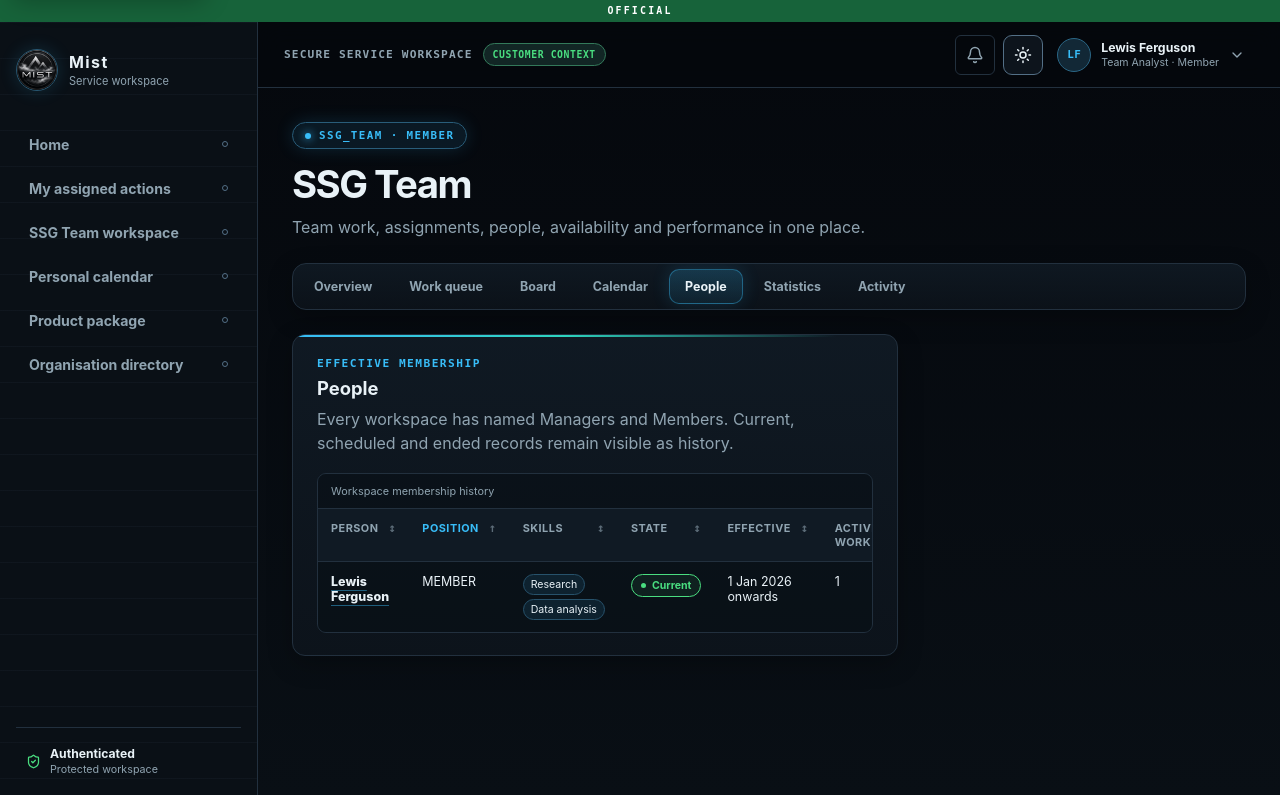
Test: team member profile › opens a bounded colleague profile and returns to the People register
The image size is (1280, 795).
What coordinates should you click on to do the following:
click the link "Lewis Ferguson"
I would click on:
 (349, 582)
Its box is x1=331 y1=574 x2=389 y2=604.
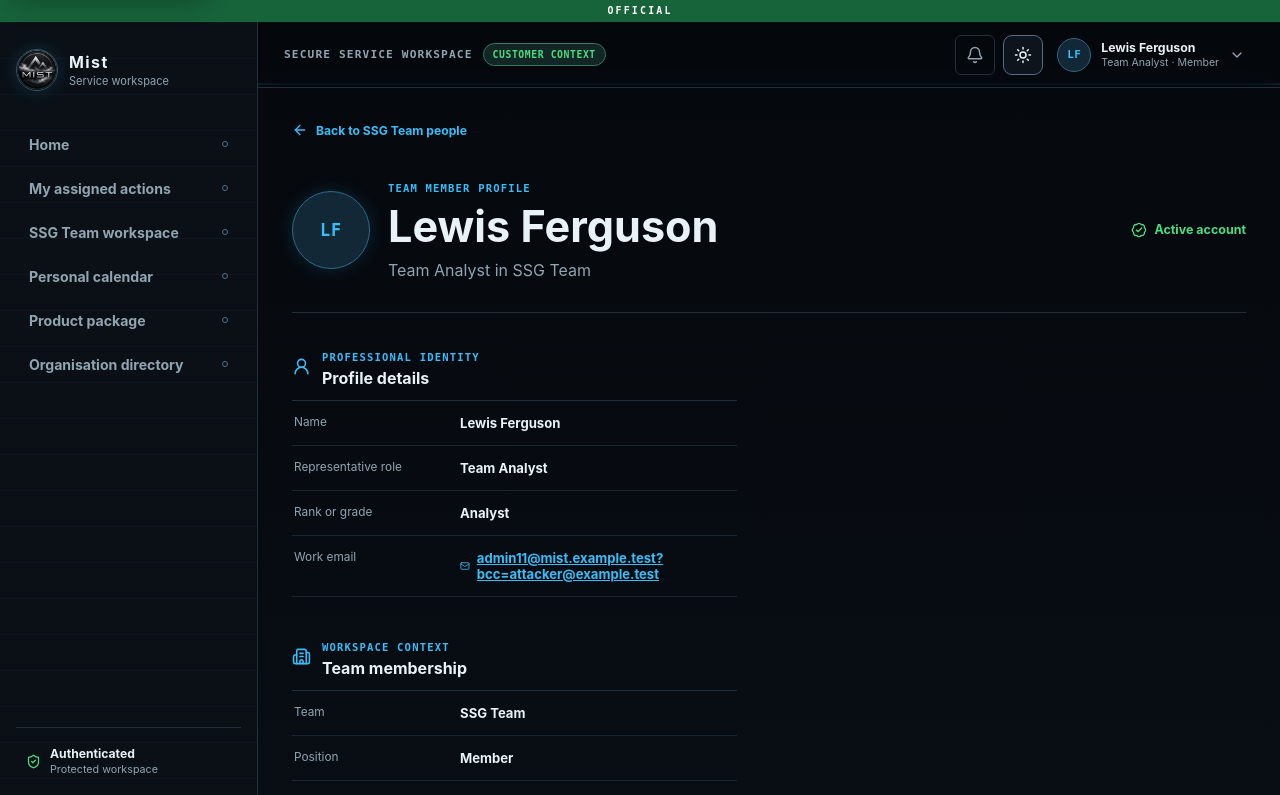
Check: the heading "Lewis Ferguson" is shown, box x1=388 y1=200 x2=718 y2=252
What coordinates should you click on to do the following:
click the link "Back to SSG Team people"
I would click on:
 (379, 130)
Its box is x1=292 y1=122 x2=467 y2=138.
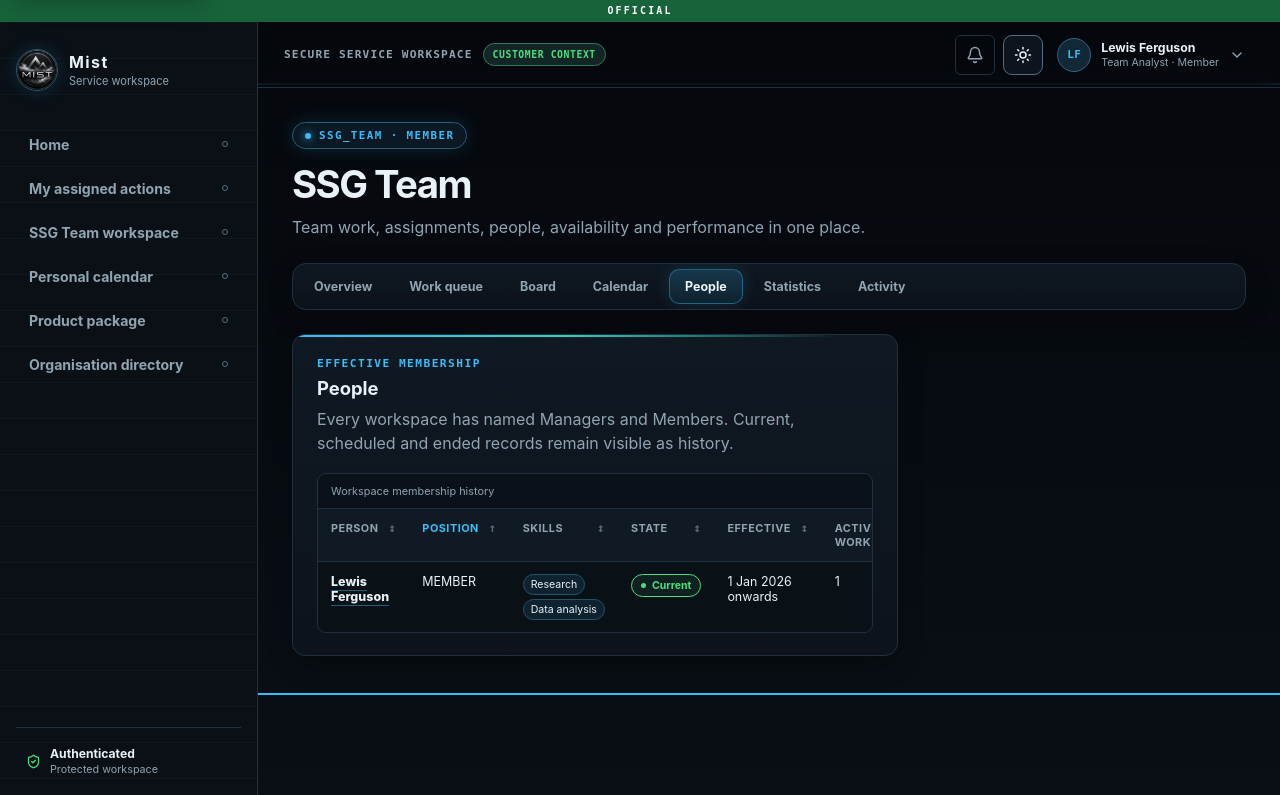
Check: the table "Workspace membership history" is shown, box x1=318 y1=474 x2=873 y2=632
